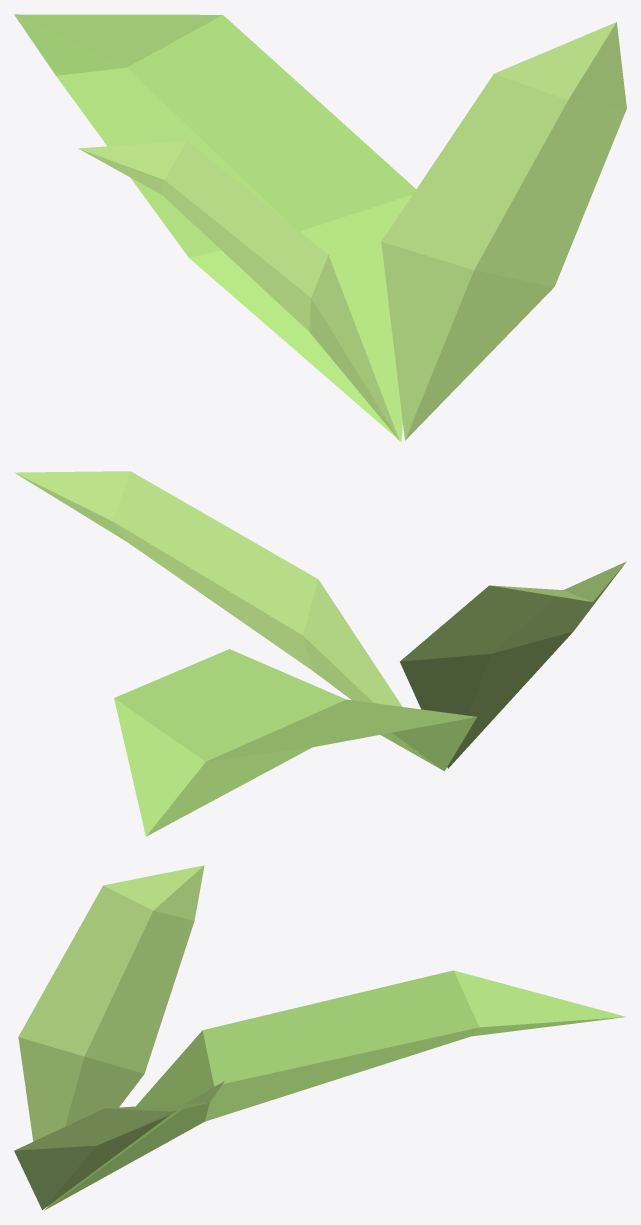
The model's file is Plant_k_OneS_02.fbx.
The picture shows the model from 3 angles, top to bottom: view 1: azimuth 30°, elevation 25°; view 2: azimuth 150°, elevation 25°; view 3: azimuth 270°, elevation 25°; orthographic projection. The views are drawn at different scales.
Parts seen in each view (by area): view 1: Plant_k_OneS_02; view 2: Plant_k_OneS_02; view 3: Plant_k_OneS_02.
Boxes of the visible parts, x1,y1,x2,y2 form: Plant_k_OneS_02: (14, 14, 626, 441); Plant_k_OneS_02: (14, 471, 626, 836); Plant_k_OneS_02: (14, 865, 625, 1210).
Bounding box in the file's own units: 0.3105 × 0.1551 × 0.3489.
